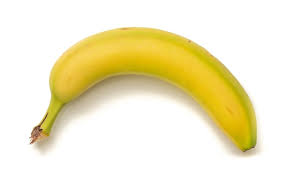banana: (25, 26, 257, 157)
